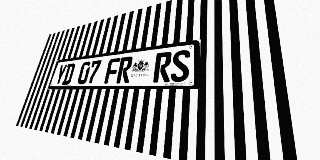0: (76, 61, 92, 84)
7: (86, 60, 102, 84)
D: (62, 63, 76, 85)
F: (104, 58, 121, 84)
R: (153, 51, 172, 83), (116, 56, 133, 83)
S: (170, 49, 191, 82)
Y: (54, 64, 68, 85)
